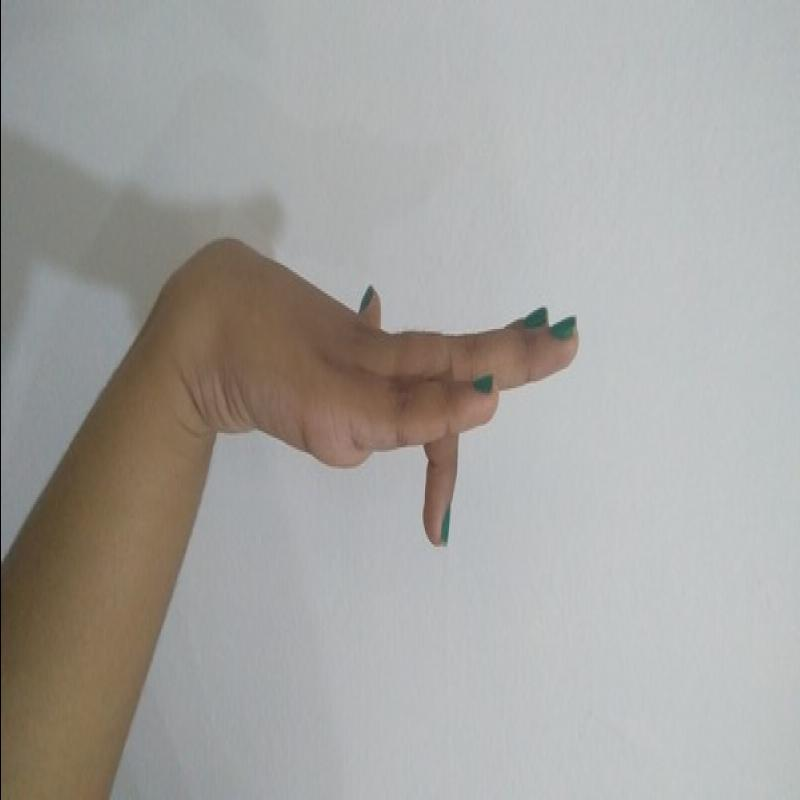Pathaaka: (186, 232, 591, 558)
